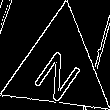N_NE: (30, 36, 88, 101)
